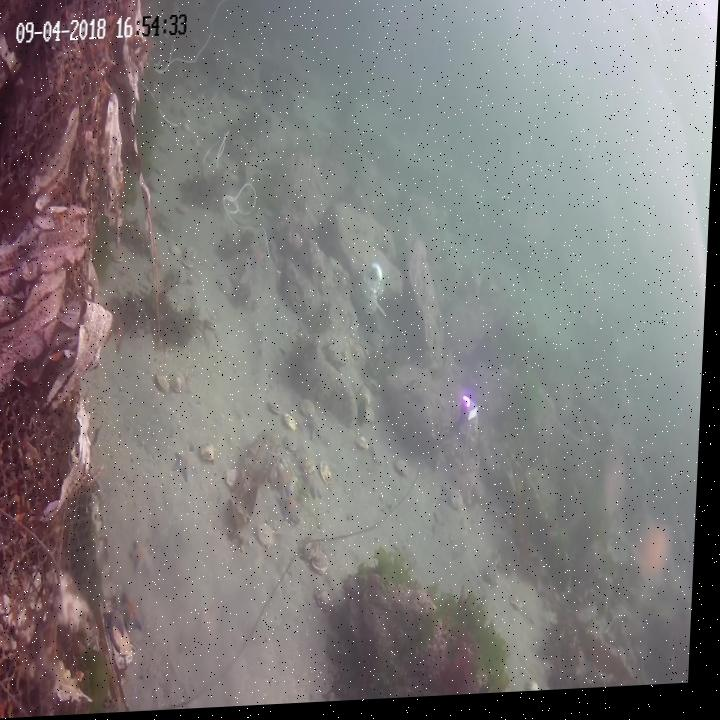scallop: (319, 582, 342, 615), (260, 523, 283, 555), (314, 554, 336, 583), (218, 273, 240, 302), (227, 465, 247, 496), (397, 460, 416, 490), (307, 537, 325, 568), (485, 568, 506, 594), (171, 372, 191, 399), (202, 444, 221, 469), (184, 245, 200, 274), (358, 436, 375, 462), (269, 402, 289, 424), (157, 370, 175, 394), (285, 413, 302, 436), (306, 457, 322, 475), (170, 243, 185, 261)
starfish: (632, 516, 681, 604), (606, 457, 633, 530), (125, 589, 151, 636), (134, 539, 162, 578), (174, 448, 201, 488), (276, 462, 302, 503), (281, 498, 306, 536), (304, 415, 330, 448), (307, 469, 330, 503), (110, 603, 131, 640), (251, 247, 270, 274)
